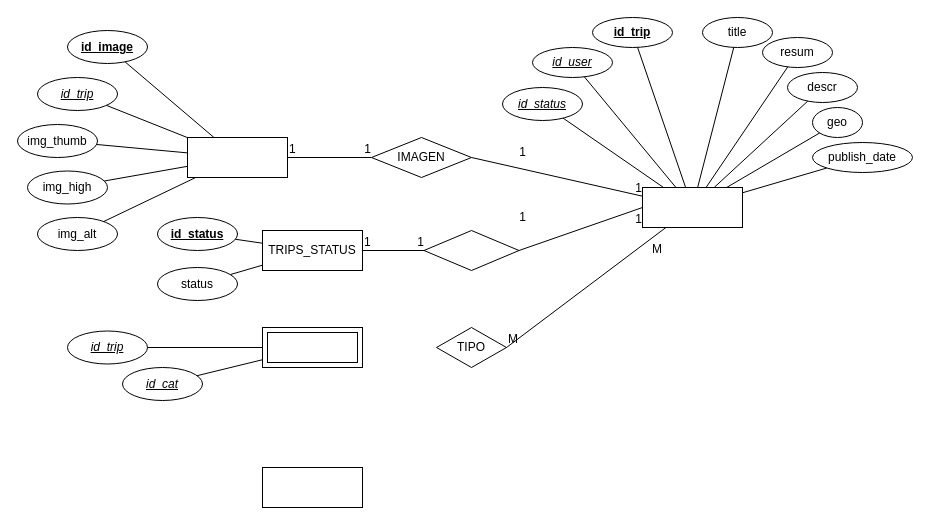
This 930x525 diagram has some shape labels left out. Here are the shapes that lost their labels. From the top down, the centre of each, then its label:
the point at 237,157: MEDIA
the point at 692,207: TRIPS
the point at 471,250: ESTADO
the point at 312,347: TRIPS_CAT
the point at 312,487: CATEGORIES
